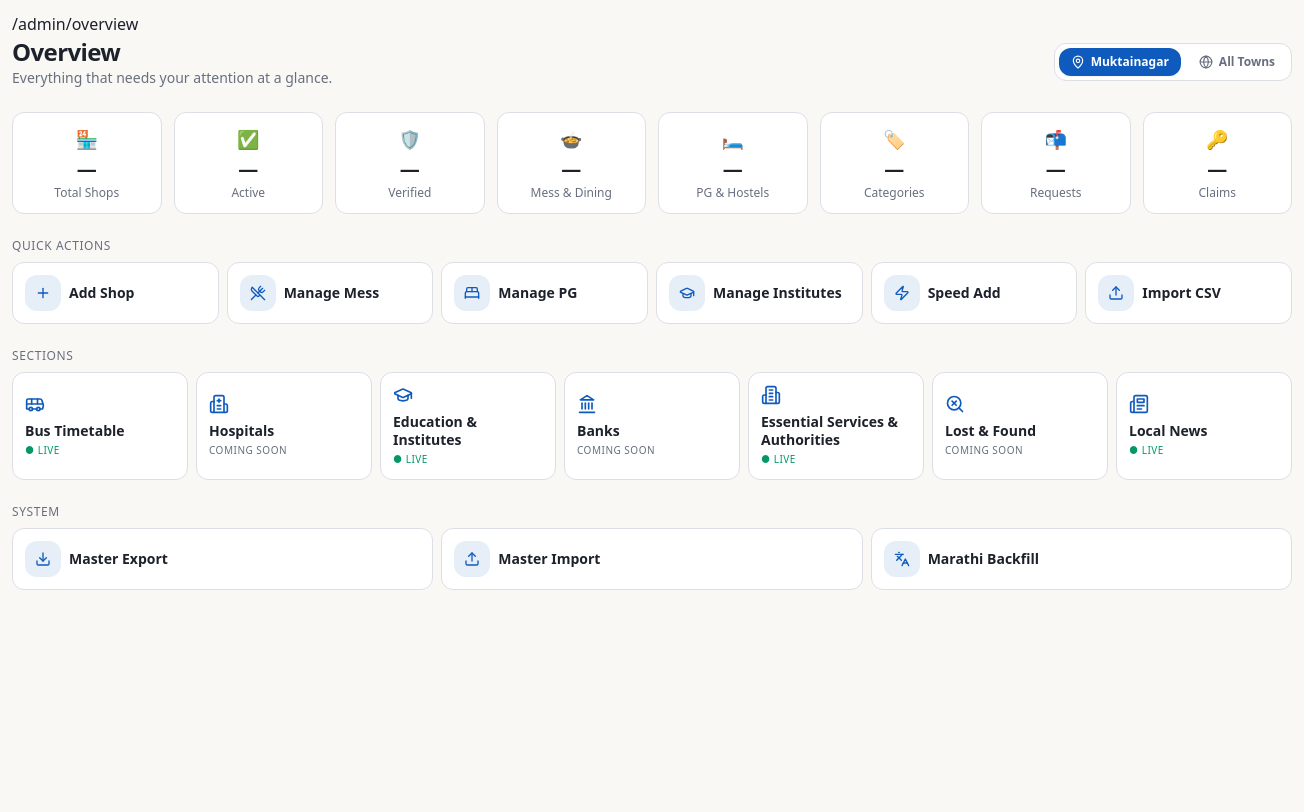
Scenario: Responsive UI & Wiring Regressions › routes AdminOverview "Manage Institutes" quick action to /admin/sections/schools
Click the button "Manage Institutes".
click(759, 293)  # box [656,262,863,324]
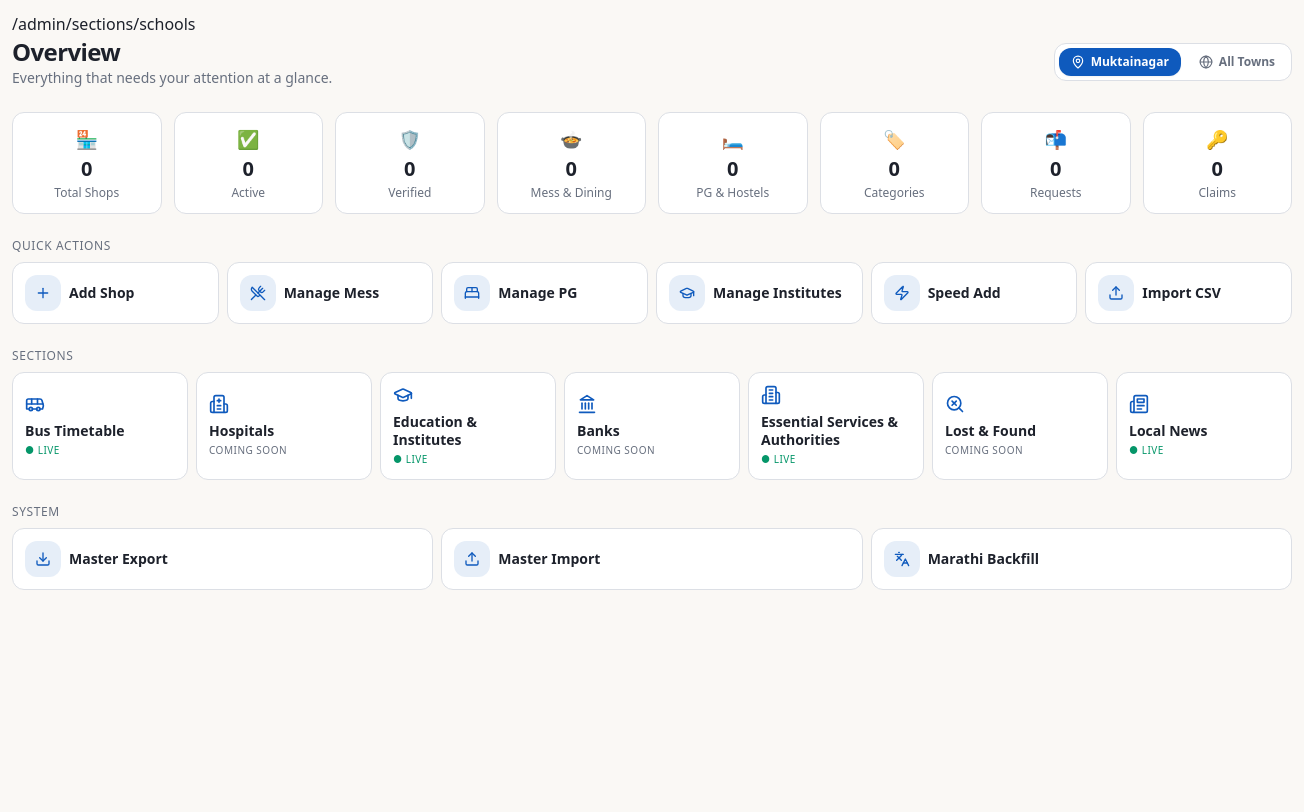
Expected: the text with test id "current-route" reads "/admin/sections/schools", [12,13,196,35]
